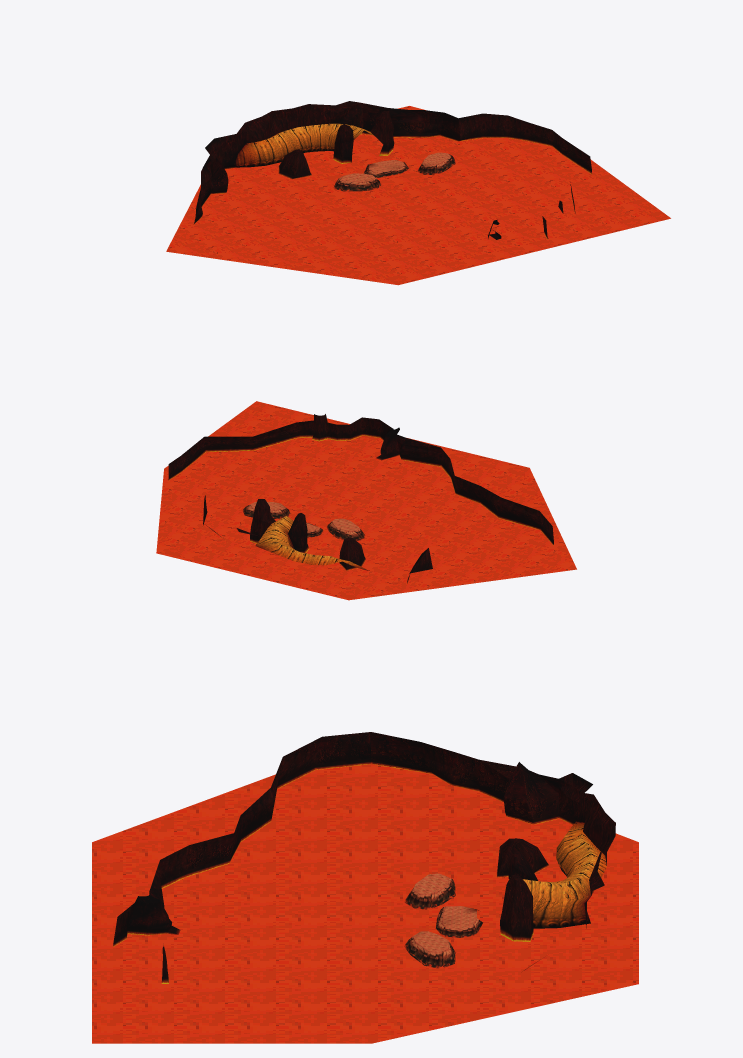
File: AlienBossEndSequence.glb
3 views of the same model, one above another, from view 1: azimuth 30°, elevation 25°; view 2: azimuth 150°, elevation 25°; view 3: azimuth 270°, elevation 25° (orthographic). The views are drawn at different scales.
Visible parts, largest first — view 1: AlienBossEndSequence_Alpha_7, AlienBossEndSequence_2, AlienBossEndSequence_3, AlienBossEndSequence_1, AlienBossEndSequence_6, AlienBossEndSequence_9, AlienBossEndSequence_4, AlienBossEndSequence_16, AlienBossEndSequence_5; view 2: AlienBossEndSequence_Alpha_7, AlienBossEndSequence_3, AlienBossEndSequence_2, AlienBossEndSequence_6, AlienBossEndSequence_9, AlienBossEndSequence_1; view 3: AlienBossEndSequence_Alpha_7, AlienBossEndSequence_2, AlienBossEndSequence_3, AlienBossEndSequence_1, AlienBossEndSequence_6, AlienBossEndSequence_9, AlienBossEndSequence_16, AlienBossEndSequence_4, AlienBossEndSequence_5.
Part boxes in pixels (bbox=[...]): AlienBossEndSequence_Alpha_7: bbox=[166, 106, 670, 285]; AlienBossEndSequence_2: bbox=[195, 110, 590, 232]; AlienBossEndSequence_3: bbox=[194, 116, 591, 239]; AlienBossEndSequence_1: bbox=[201, 101, 499, 228]; AlienBossEndSequence_6: bbox=[193, 130, 592, 239]; AlienBossEndSequence_9: bbox=[238, 123, 374, 153]; AlienBossEndSequence_4: bbox=[234, 134, 336, 164]; AlienBossEndSequence_16: bbox=[341, 152, 449, 181]; AlienBossEndSequence_5: bbox=[234, 145, 334, 167]; AlienBossEndSequence_Alpha_7: bbox=[156, 401, 576, 600]; AlienBossEndSequence_3: bbox=[168, 423, 553, 580]; AlienBossEndSequence_2: bbox=[168, 414, 553, 570]; AlienBossEndSequence_6: bbox=[168, 431, 553, 582]; AlienBossEndSequence_9: bbox=[256, 515, 368, 570]; AlienBossEndSequence_1: bbox=[204, 414, 439, 556]; AlienBossEndSequence_Alpha_7: bbox=[92, 764, 638, 1043]; AlienBossEndSequence_2: bbox=[115, 732, 615, 965]; AlienBossEndSequence_3: bbox=[114, 747, 586, 974]; AlienBossEndSequence_1: bbox=[127, 759, 615, 957]; AlienBossEndSequence_6: bbox=[113, 758, 575, 983]; AlienBossEndSequence_9: bbox=[523, 821, 606, 903]; AlienBossEndSequence_16: bbox=[413, 873, 476, 951]; AlienBossEndSequence_4: bbox=[533, 837, 588, 918]; AlienBossEndSequence_5: bbox=[533, 859, 590, 928].
Size of the model in its own units: 1408 by 121 by 1206.
17 materials, 17 textured.
